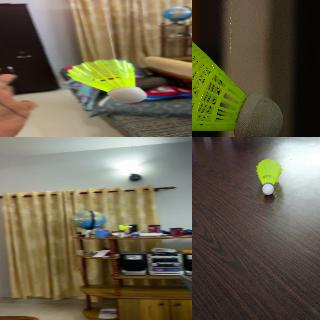shuttlecock: (192, 26, 282, 136), (66, 59, 146, 102), (256, 158, 282, 194), (118, 225, 132, 230)
